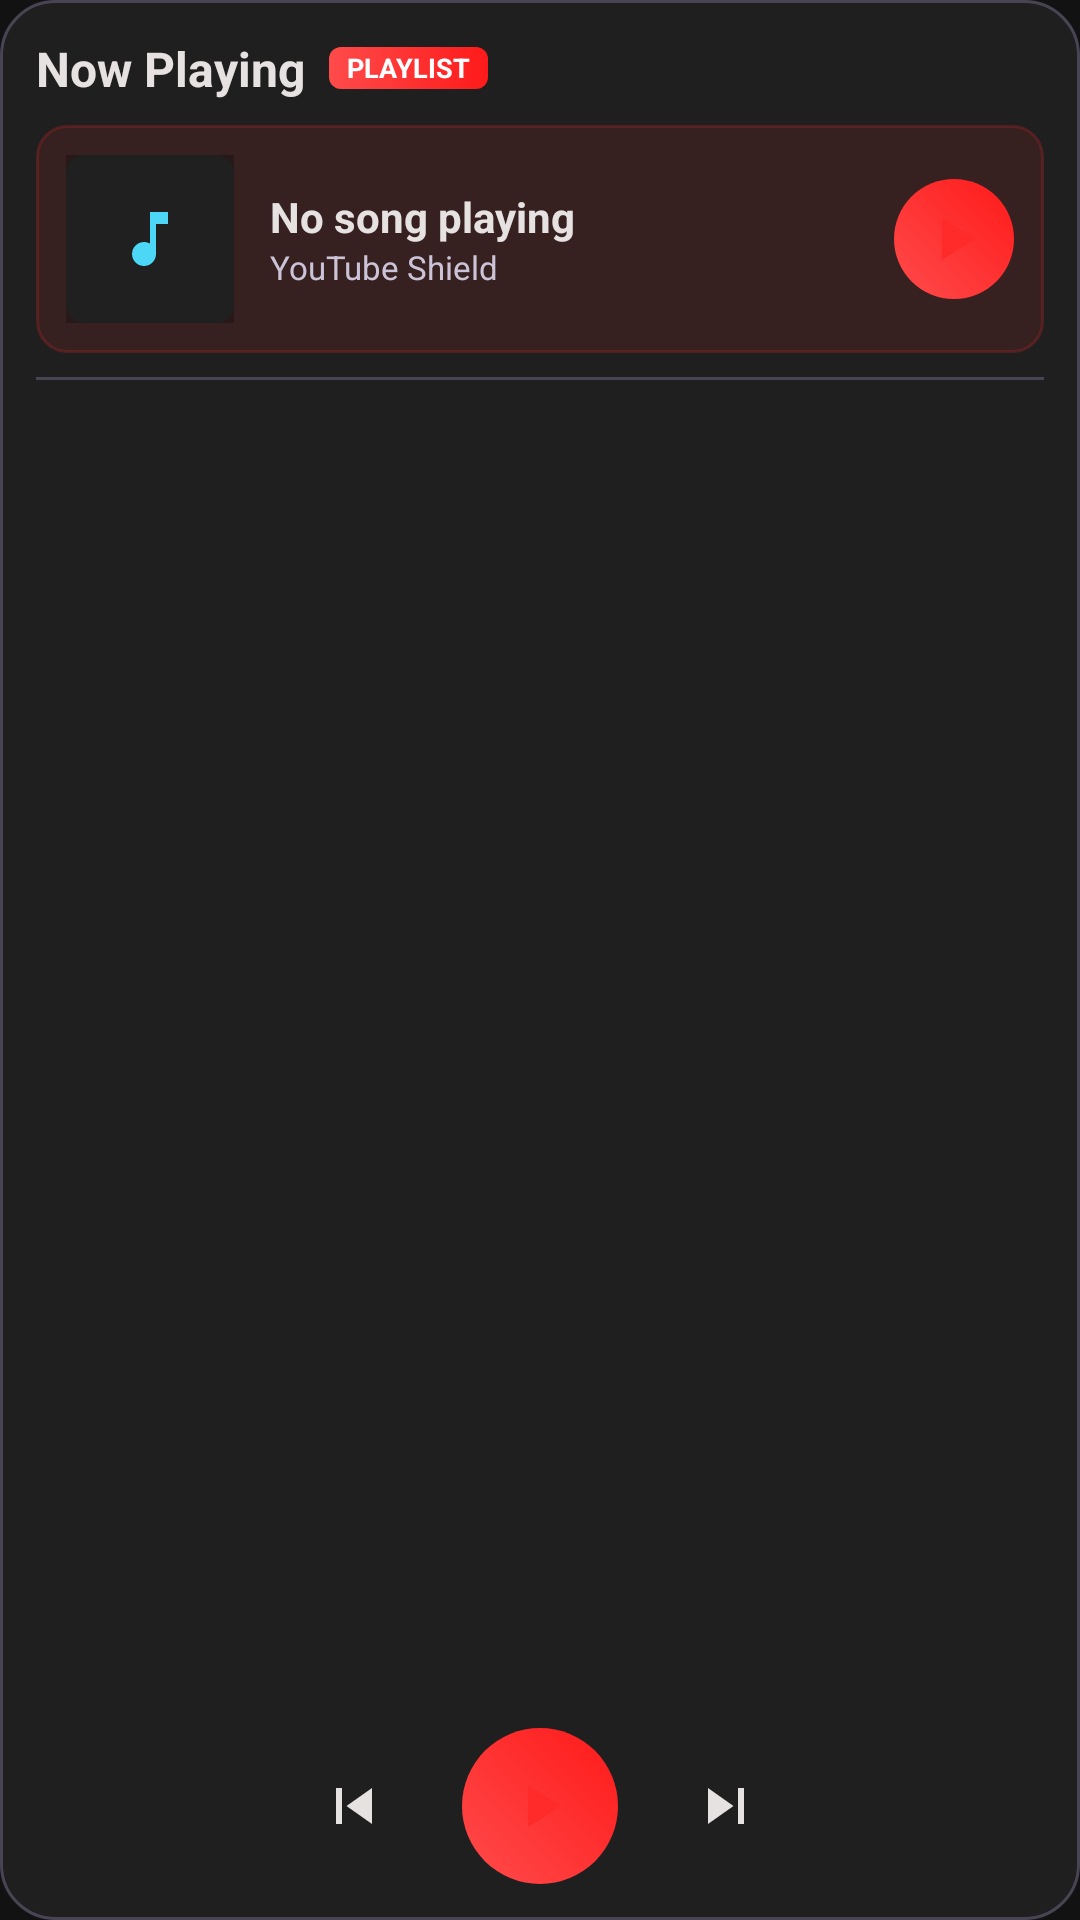

Screen size 1080w x 1920h. Icon name, then its box in pixels as (x1, y1, x2, y2):
Next: (708, 1788, 744, 1824)
Play/Pause: (894, 179, 1014, 299), (462, 1728, 618, 1884)
Previous: (336, 1788, 372, 1824)
